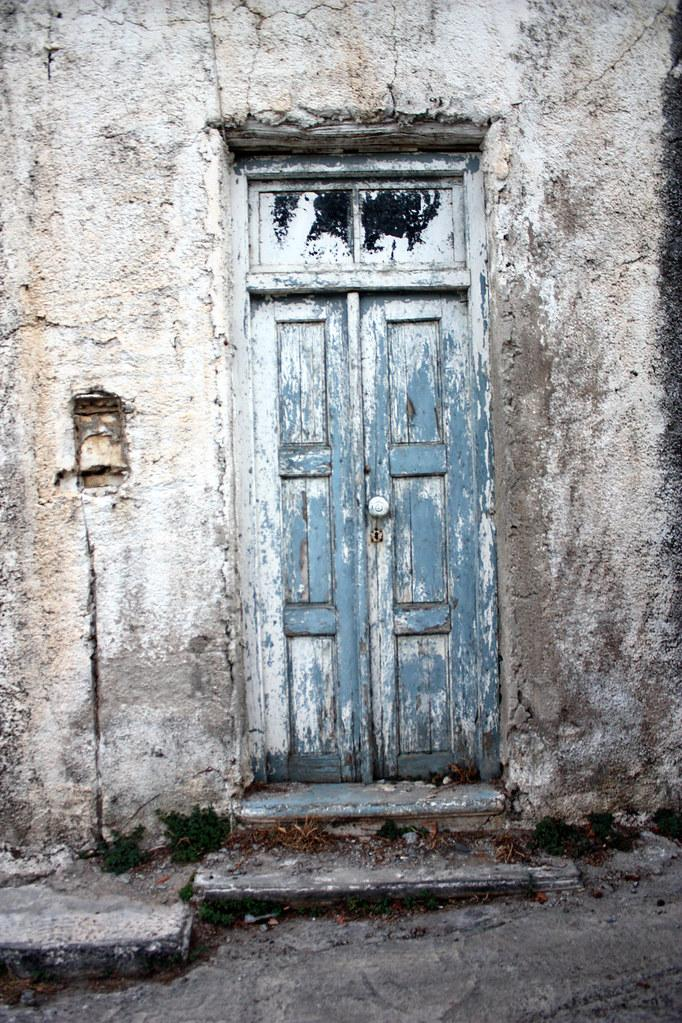door: (233, 149, 503, 788)
